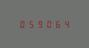five: (26, 20, 34, 28)
four: (63, 20, 71, 28)
nine: (36, 20, 44, 28)
six: (54, 20, 62, 28)
zero: (17, 20, 25, 28), (45, 20, 53, 28)
